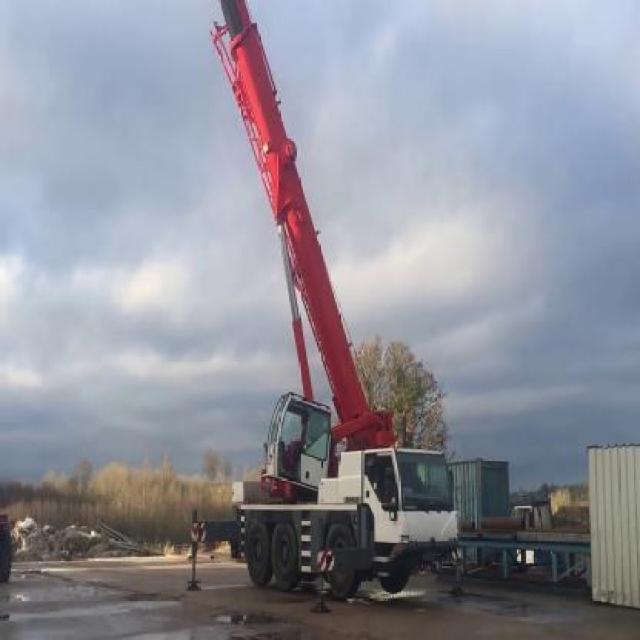Mobile Crane: (188, 1, 458, 607)
